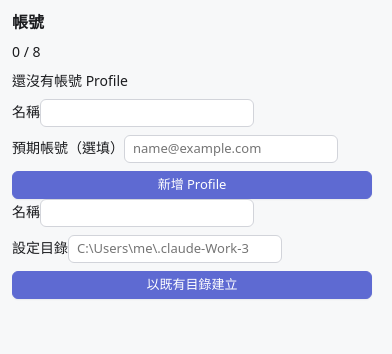
Scenario: 帳號頁 › 名稱是空的時不送出請求
Expected: the text "還沒有帳號 Profile" is shown, [12,71,128,90]
Step 1. Click the button "新增 Profile" → (192, 185), box [12,171,372,199]
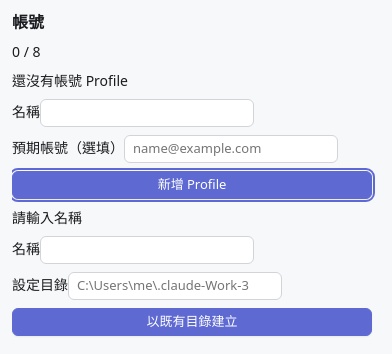
Result: the message reads "請輸入名稱" at [12,208,82,227]
